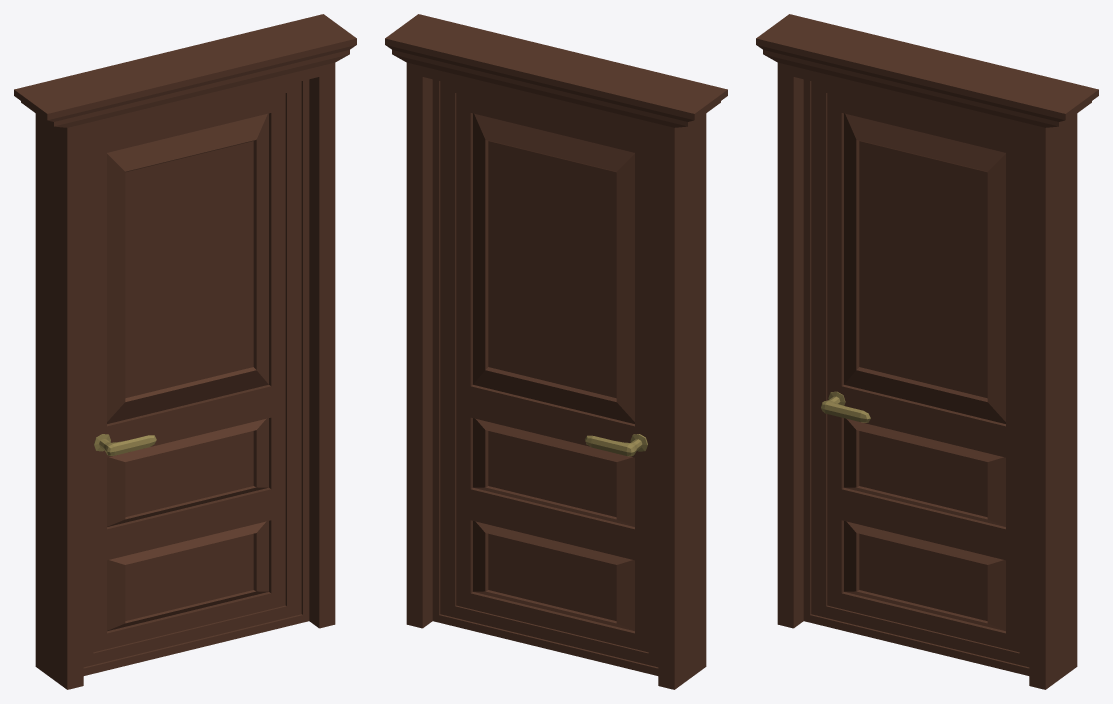
File: door.glb
3 views of the same model, side by side, from view 1: azimuth 30°, elevation 25°; view 2: azimuth 150°, elevation 25°; view 3: azimuth 330°, elevation 25° (orthographic).
Visible parts, largest first — view 1: Door, DoorFrame, DoorHandle; view 2: Door, DoorFrame, DoorHandle; view 3: Door, DoorFrame, DoorHandle.
Boxes of the visible parts, x1=… form: Door: x1=83, y1=79, x2=309, y2=675; DoorFrame: x1=14, y1=14, x2=356, y2=689; DoorHandle: x1=94, y1=434, x2=156, y2=455; Door: x1=432, y1=79, x2=658, y2=675; DoorFrame: x1=385, y1=14, x2=727, y2=689; DoorHandle: x1=585, y1=434, x2=647, y2=456; Door: x1=803, y1=79, x2=1029, y2=675; DoorFrame: x1=756, y1=14, x2=1098, y2=689; DoorHandle: x1=821, y1=391, x2=870, y2=422.
Bounding box in the file's own units: 175 × 314 × 32.72.
